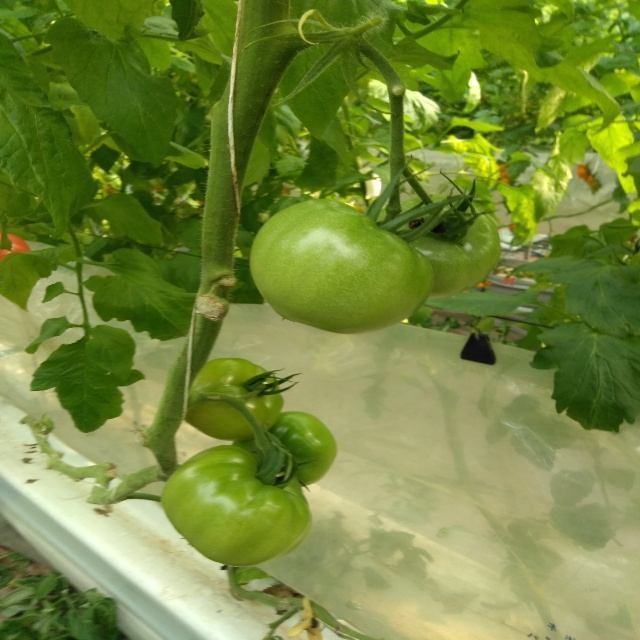b_green: (249, 198, 435, 334), (160, 444, 312, 567), (374, 194, 501, 299), (182, 358, 284, 441), (230, 411, 337, 488)
